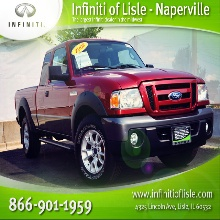no damage: (14, 38, 215, 183)
